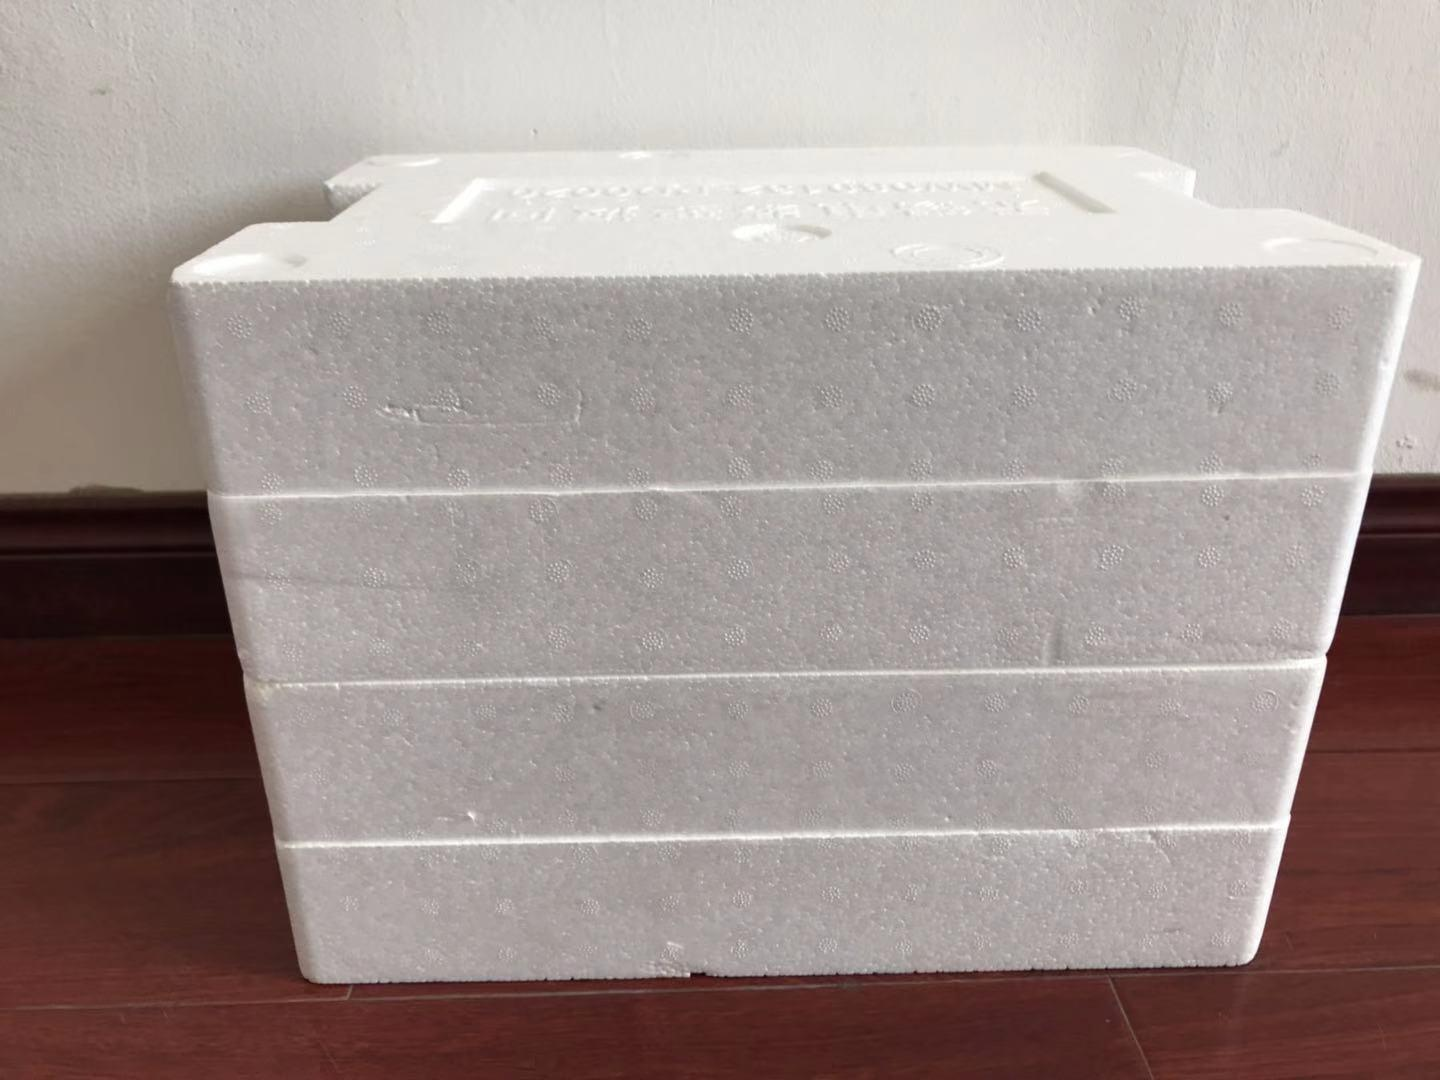Foam Box: (150, 130, 1440, 992)
